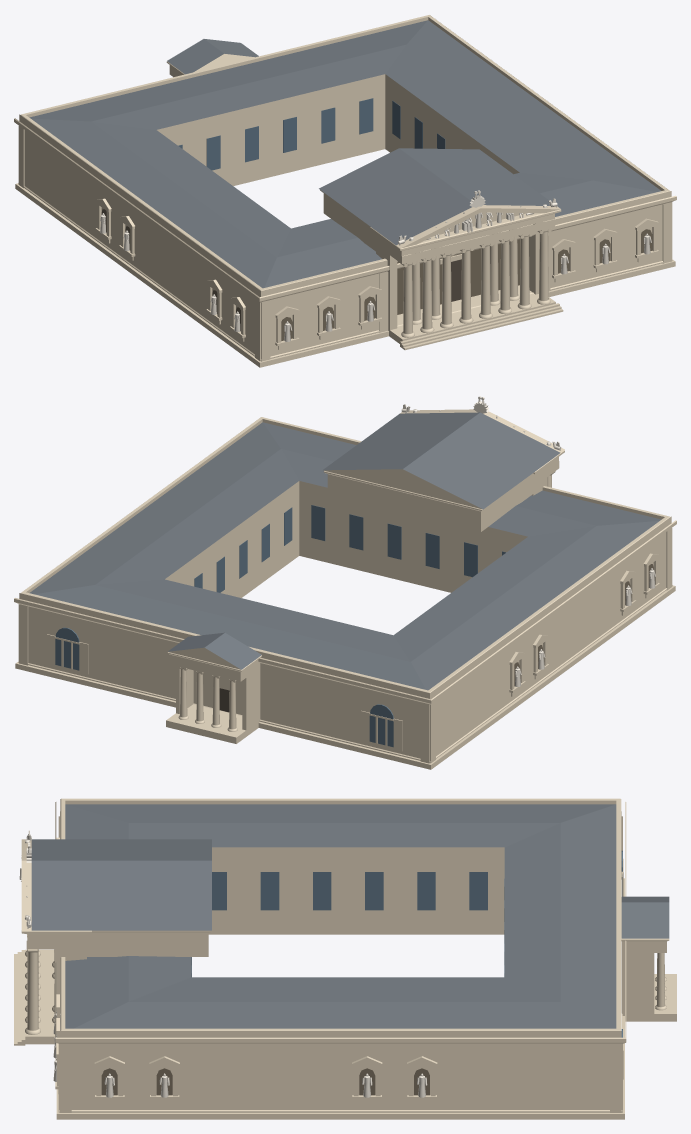
File: munich-glyptothek.detail.glb
3 renders of one model, top to bottom at view 1: azimuth 30°, elevation 25°; view 2: azimuth 150°, elevation 25°; view 3: azimuth 270°, elevation 25°, orthographic. The views are drawn at different scales.
Visible parts, largest first — view 1: Glyptothek; view 2: Glyptothek; view 3: Glyptothek.
Part boxes in pixels (x1,y1,x2,y2): Glyptothek: (14, 15, 676, 367); Glyptothek: (14, 396, 676, 769); Glyptothek: (14, 798, 676, 1119).
Bounding box in the file's own units: 66.72 × 20.55 × 78.55.
